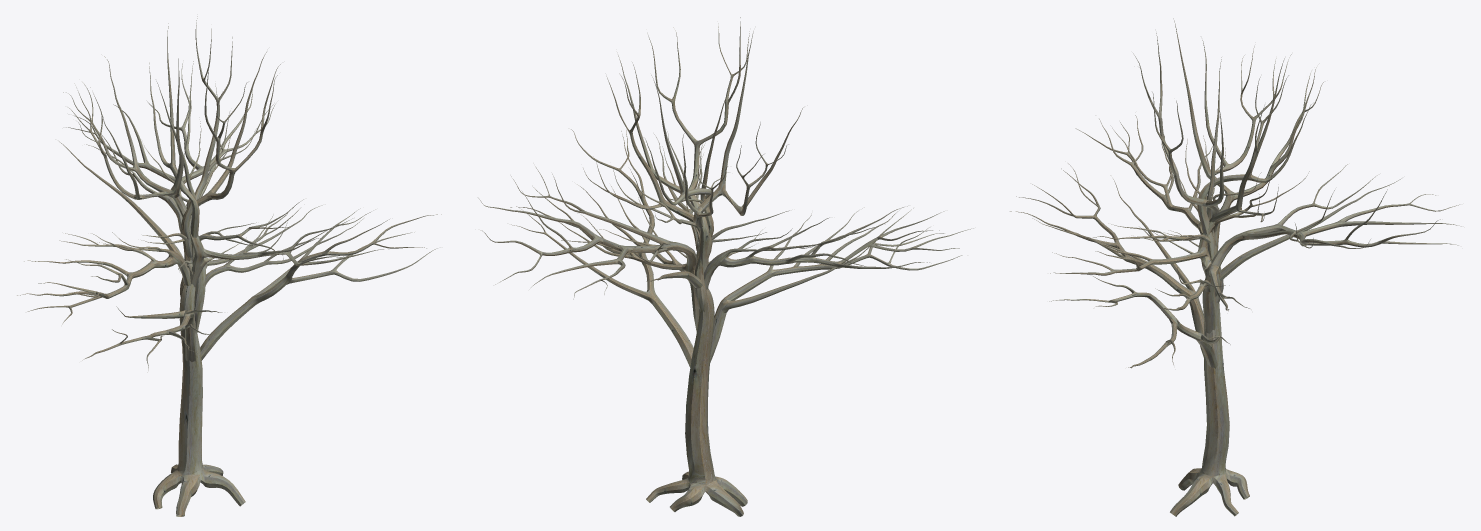
The model's file is trees02.obj.
3 views of the same model, side by side, from view 1: azimuth 30°, elevation 25°; view 2: azimuth 150°, elevation 25°; view 3: azimuth 270°, elevation 25° (orthographic). The views are drawn at different scales.
Visible parts, largest first — view 1: object0; view 2: object0; view 3: object0.
Part boxes in pixels (x1,y1,x2,y2): object0: [17, 16, 441, 516]; object0: [478, 17, 973, 516]; object0: [1010, 18, 1461, 516].
Size of what is drawn, in the model's own units: 97.39 by 102 by 90.32.
3 materials, 3 textured.
